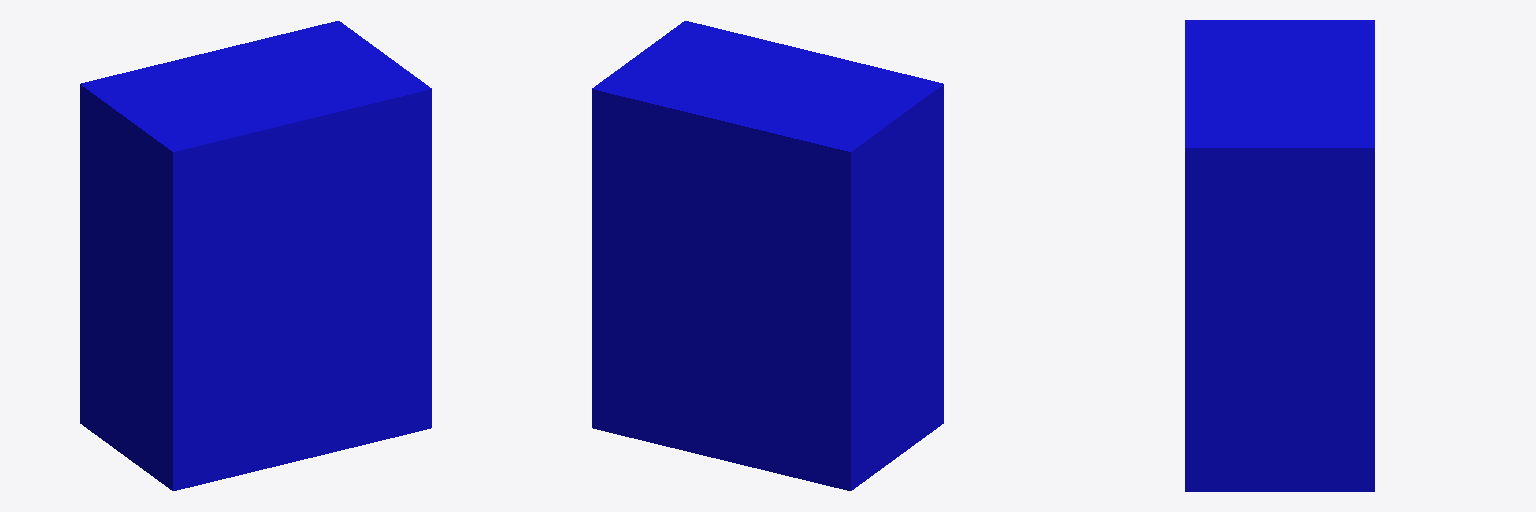
URDF robot description (rectangular_block):
<?xml version="1.0"?>
<robot name="rectangular_block">
    <link name="base_link">
        <visual>
            <geometry>
                <box size="0.04 0.025 0.05"/>  <!-- Length, Width, Height -->
            </geometry>
            <material name="gray">
                <color rgba="0.1 0.1 0.9 1"/>
            </material>
        </visual>
        
        <collision>
            <geometry>
                <box size="0.04 0.025 0.05"/>
            </geometry>
        </collision>
        
        <inertial>
            <mass value="1.0"/>
            <origin xyz="0 0 0"/>
            <inertia ixx="0.01" iyy="0.01" izz="0.01" ixy="0" ixz="0" iyz="0"/>
        </inertial>
    </link>
</robot>

--- Facts derived from the render (not from the file) ---
3 views of the same robot in one strip: view 1: azimuth 30°, elevation 25°; view 2: azimuth 150°, elevation 25°; view 3: azimuth 270°, elevation 25° (orthographic).
Model rectangular_block with 1 links and 0 joints (none), rooted at base_link, posed all joints at 0.
Links seen in each view (by area): view 1: base_link; view 2: base_link; view 3: base_link.
Boxes of the visible links, box(x1,y1,x2,y2) form: base_link: box(80, 21, 431, 490); base_link: box(592, 21, 943, 490); base_link: box(1185, 20, 1374, 491).
Size in the robot's own frame: 0.04 by 0.025 by 0.05 metres.
Geometry: primitives only (box / cylinder / sphere), no mesh files.